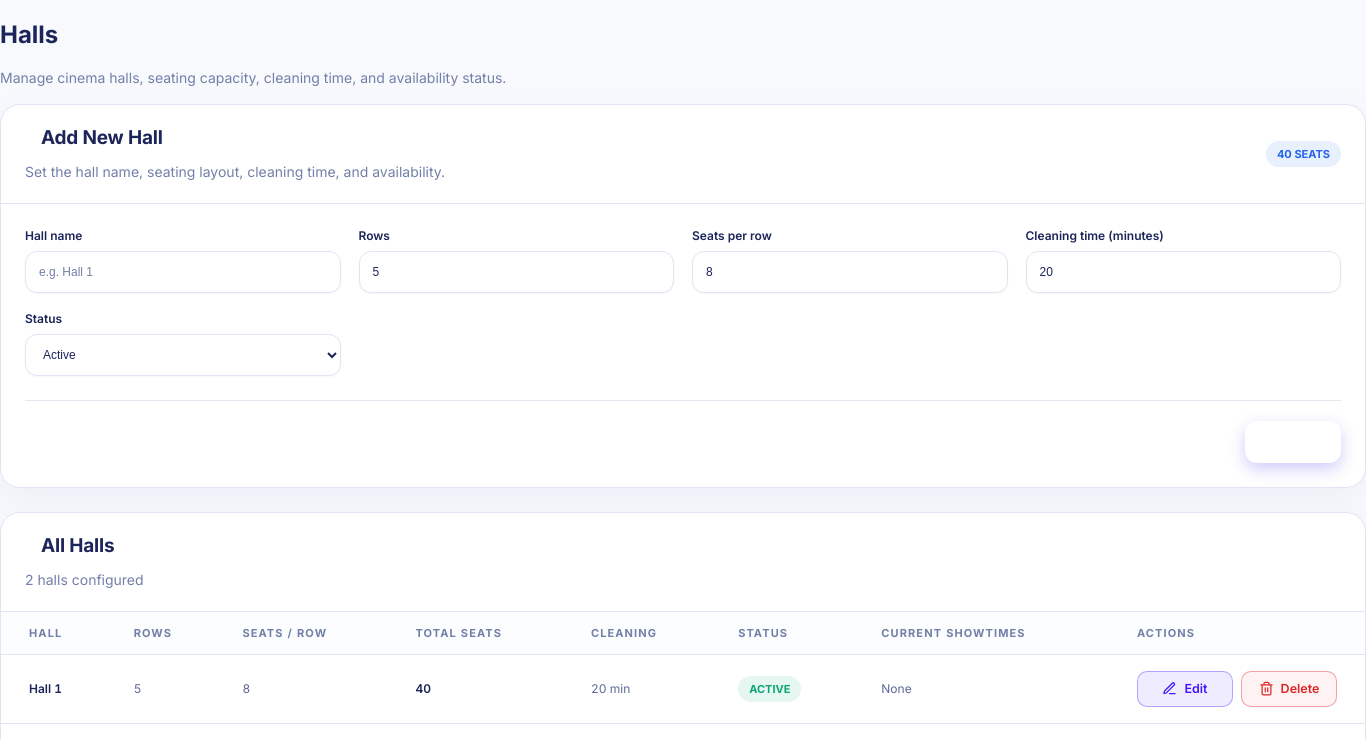
Test: Halls Admin Page › should delete a hall after confirmation
The image size is (1366, 740).
expect the text "Hall 1" is shown: met, box top-left (1, 655), bottom-right (114, 724)
Click the button "Delete" in the row of "Hall 1" at (1289, 689), box top-left (1241, 671), bottom-right (1337, 707)
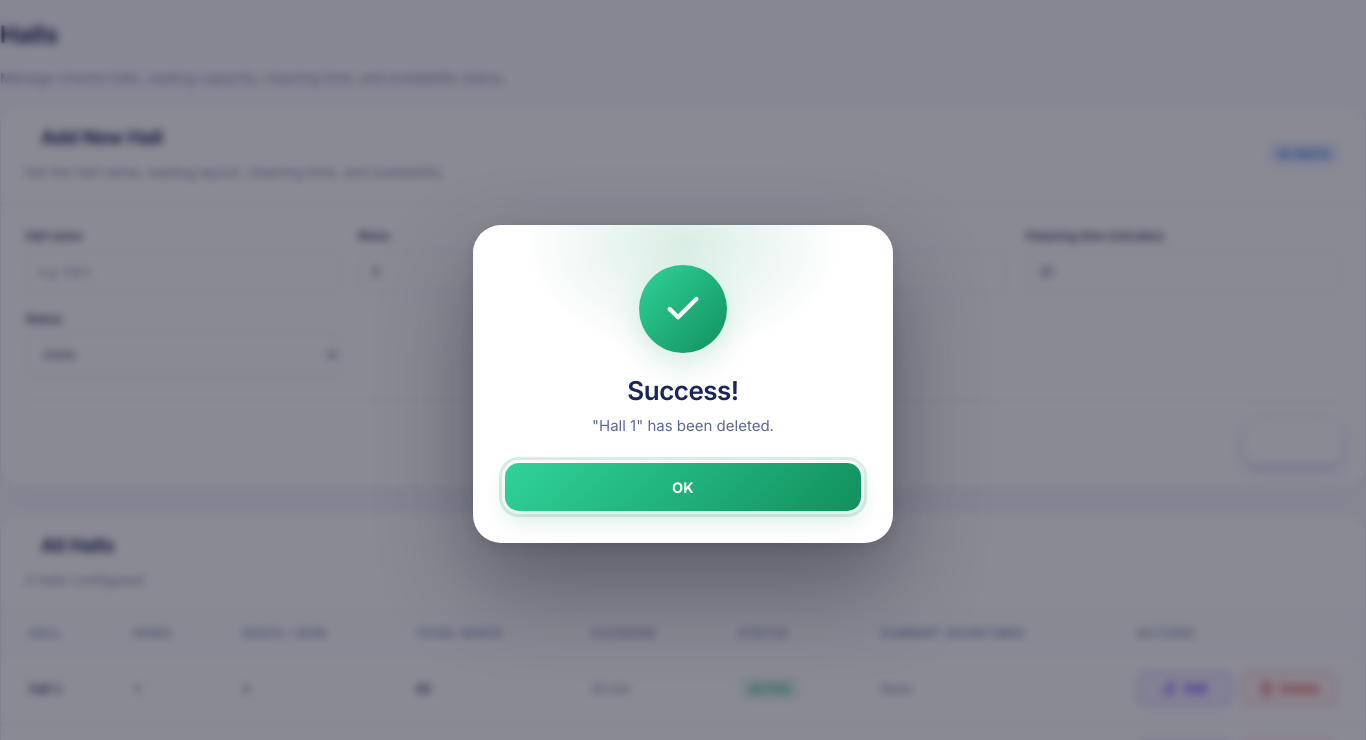
expect the message shows "\"Hall 1\" has been deleted.": met, box top-left (592, 416), bottom-right (774, 435)
